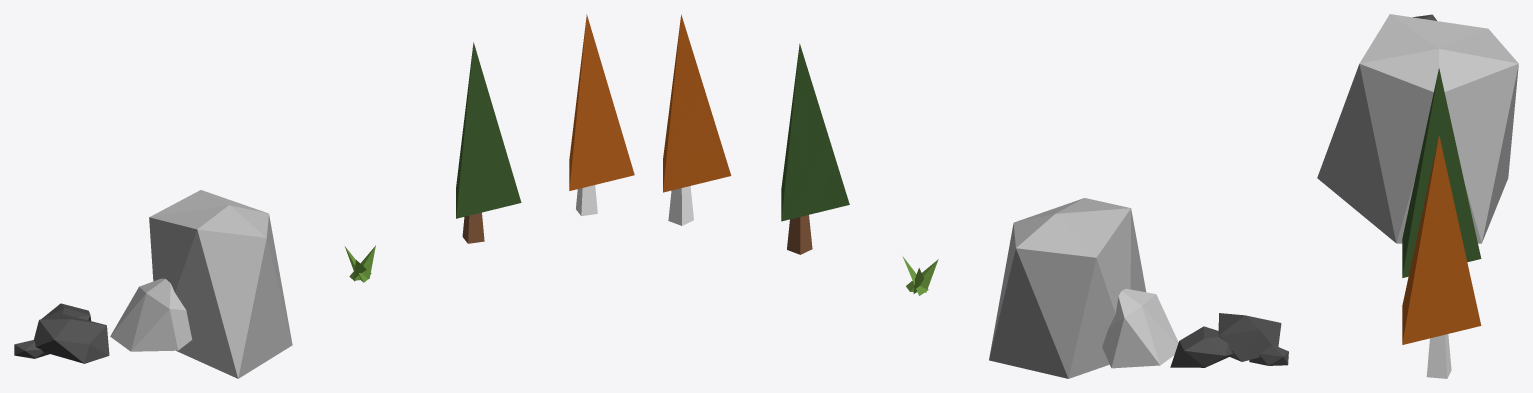
Rendered from vegetation.glb.
3 views of the same model, side by side, from view 1: azimuth 30°, elevation 25°; view 2: azimuth 150°, elevation 25°; view 3: azimuth 270°, elevation 25° (orthographic). The views are drawn at different scales.
Visible parts, largest first — view 1: Boulder, Orange Birch, Green Pine, Rock, Weed; view 2: Boulder, Green Pine, Orange Birch, Rock, Weed; view 3: Boulder, Orange Birch, Green Pine.
Part boxes in pixels (x1,y1,x2,y2): Boulder: (110, 190, 292, 378); Orange Birch: (569, 14, 634, 216); Green Pine: (456, 42, 521, 243); Rock: (14, 303, 109, 363); Weed: (344, 245, 375, 282); Boulder: (989, 198, 1178, 378); Green Pine: (781, 43, 849, 254); Orange Birch: (663, 14, 731, 225); Rock: (1170, 313, 1288, 367); Weed: (902, 256, 938, 295); Boulder: (1317, 14, 1518, 243); Orange Birch: (1402, 135, 1481, 378); Green Pine: (1402, 68, 1481, 277).
Size of the model in its own units: 16.13 by 6.13 by 3.82.
1 material, 1 textured.
